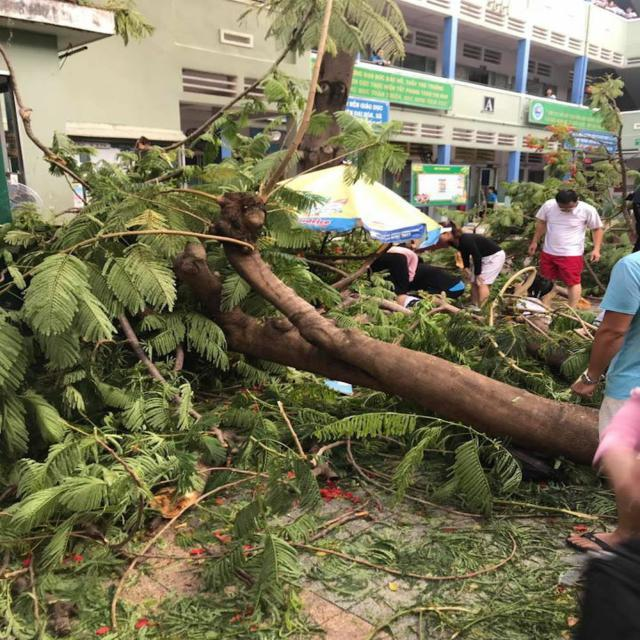fallen_object: (20, 159, 640, 497)
